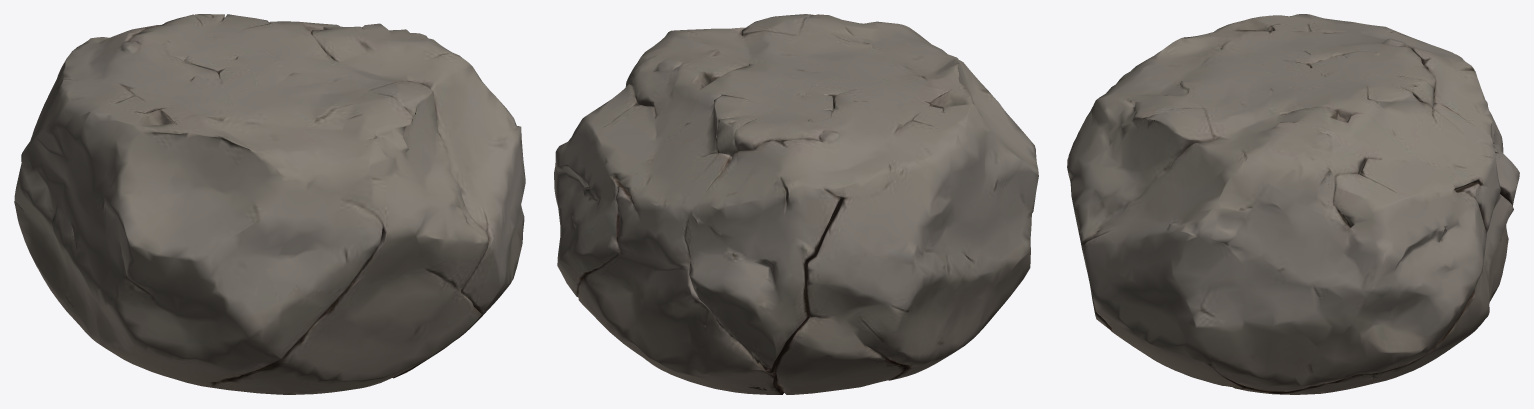
3 renders of one model, left to right at view 1: azimuth 30°, elevation 25°; view 2: azimuth 150°, elevation 25°; view 3: azimuth 270°, elevation 25°, orthographic. The views are drawn at different scales.
Visible parts, largest first — view 1: tripo_node_411444cf-f7bd-461a-8d7b-c6b1ca0b6760; view 2: tripo_node_411444cf-f7bd-461a-8d7b-c6b1ca0b6760; view 3: tripo_node_411444cf-f7bd-461a-8d7b-c6b1ca0b6760.
Part boxes in pixels (<box>): tripo_node_411444cf-f7bd-461a-8d7b-c6b1ca0b6760: <box>14,14,525,394</box>; tripo_node_411444cf-f7bd-461a-8d7b-c6b1ca0b6760: <box>554,14,1038,394</box>; tripo_node_411444cf-f7bd-461a-8d7b-c6b1ca0b6760: <box>1067,14,1519,394</box>.
Bounding box in the file's own units: 0.4073 × 0.25 × 0.4166.
Materials: 1 (1 with a texture image).
